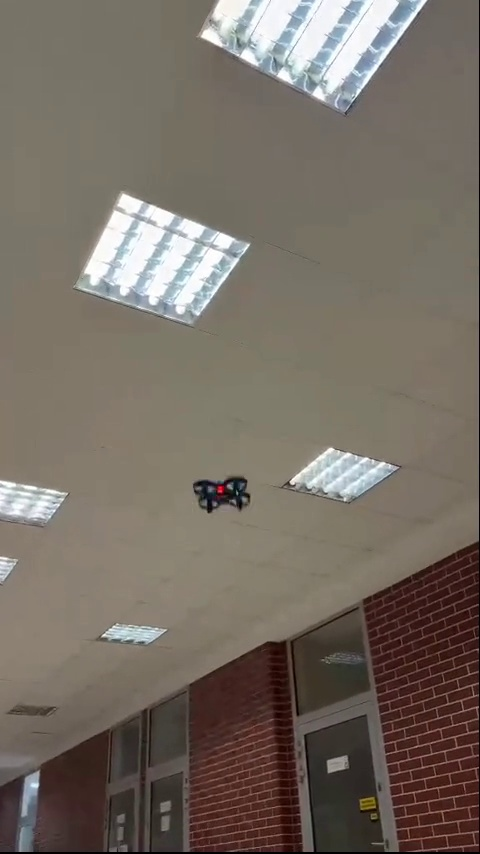drone: (192, 478, 249, 512)
